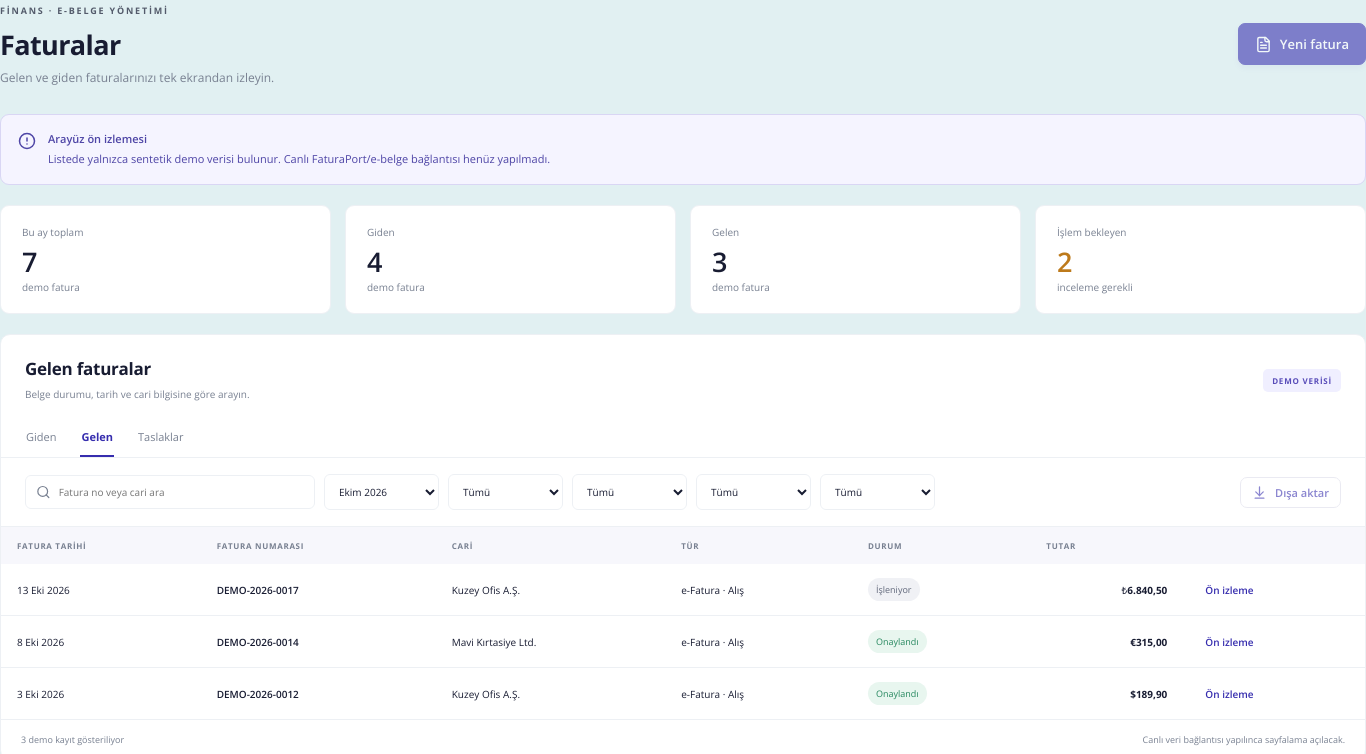
Test: filters invoice lists by read and printed state
Select "Okunmadı" in the dropdown named "Okunma durumu" at {"x": 754, "y": 492}, box [696,474,811,510]
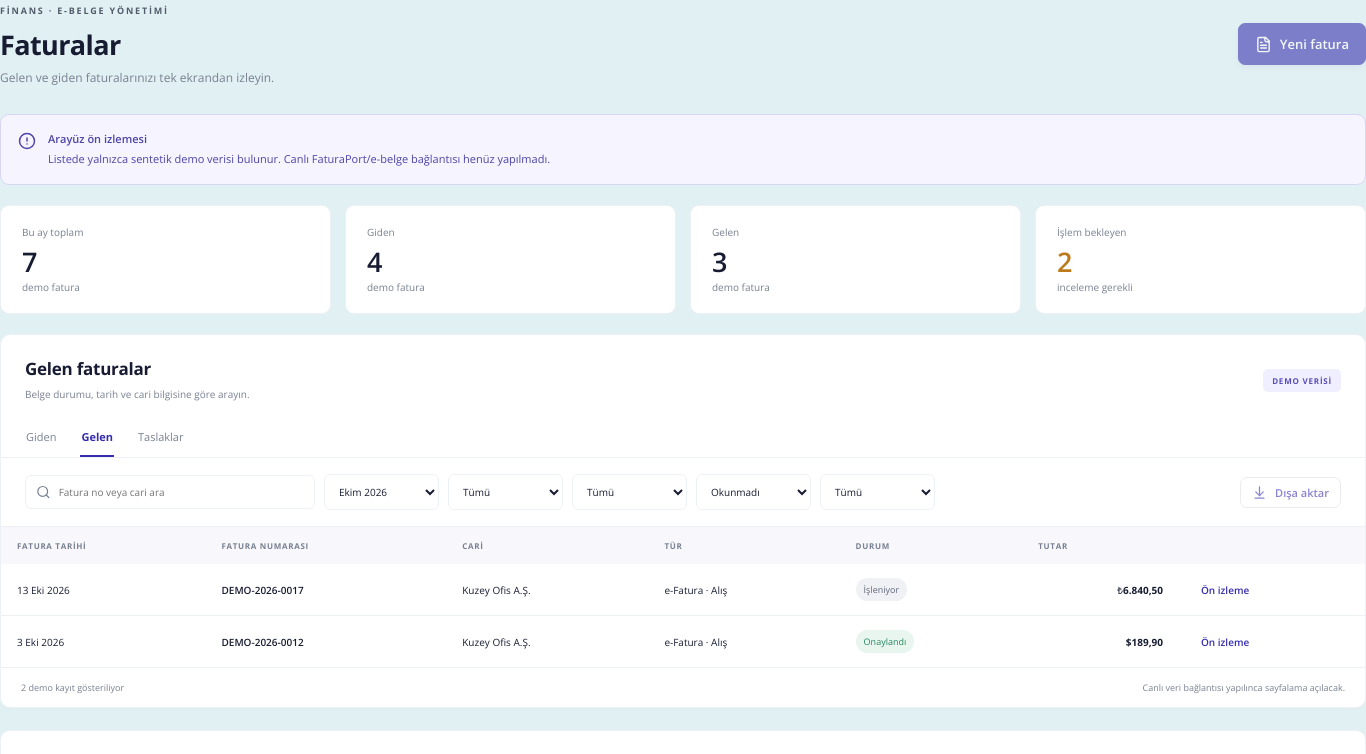
Check: the text "DEMO-2026-0017" is shown, box [222,583,304,597]
Check: the text "DEMO-2026-0014" is gone
Select "Yazdırıldı" in the dropdown named "Yazdırılma durumu" at {"x": 878, "y": 492}, box [820,474,935,510]
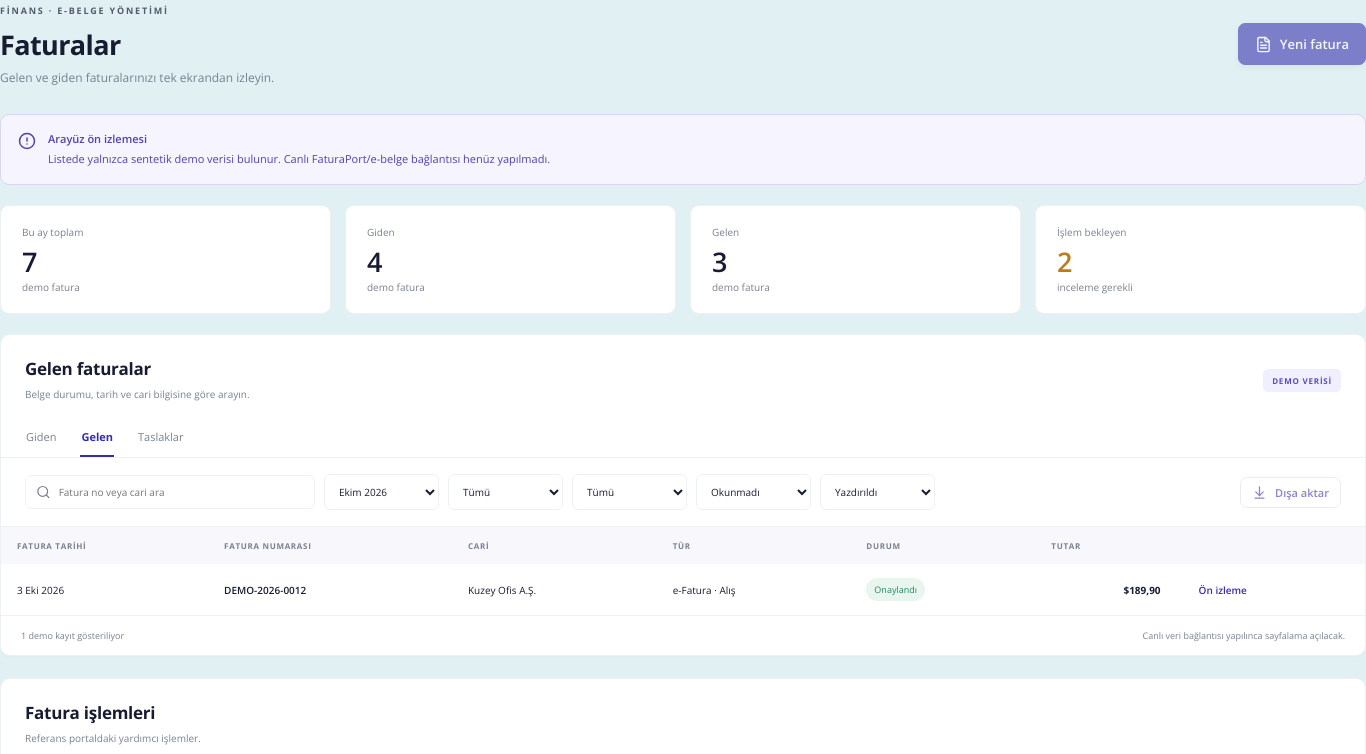
Check: the text "DEMO-2026-0017" is gone
